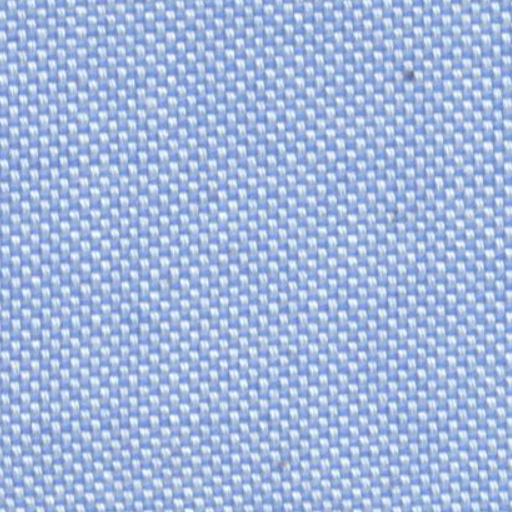WuZi: (394, 62, 436, 102)
